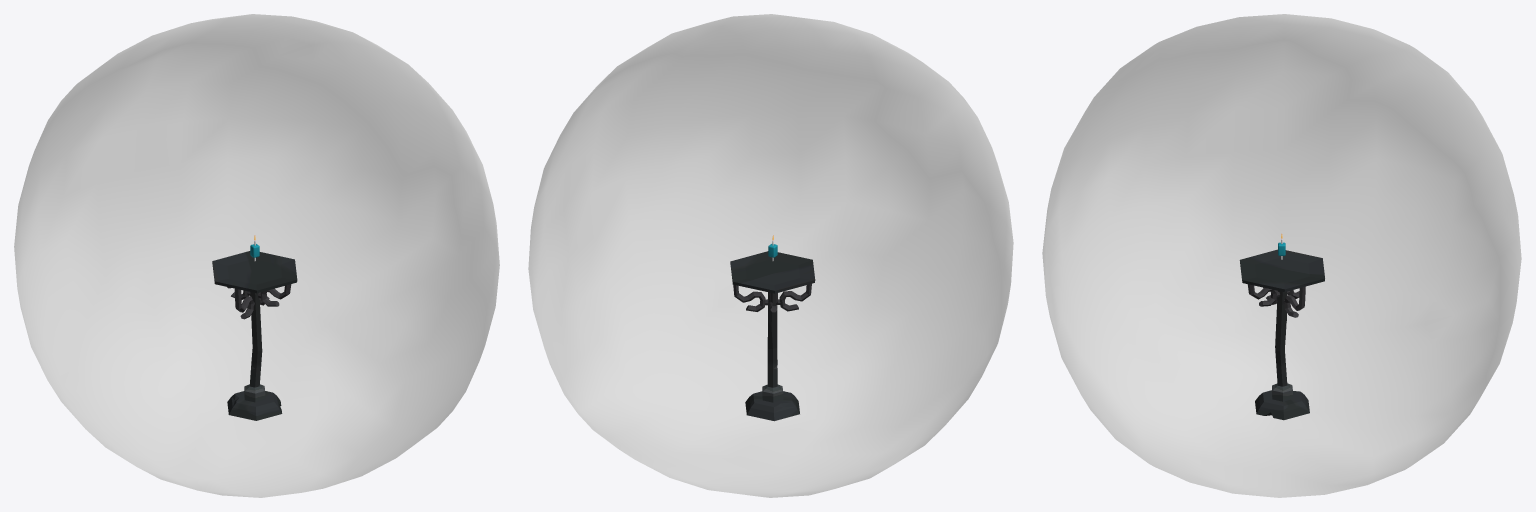
The model's file is japaneseShortComplete.glb.
3 views of the same model, side by side, from view 1: azimuth 30°, elevation 25°; view 2: azimuth 150°, elevation 25°; view 3: azimuth 270°, elevation 25° (orthographic).
Parts seen in each view (by area): view 1: Room, Candle_Stand; view 2: Room, Candle_Stand; view 3: Room, Candle_Stand.
Part boxes in pixels (left/top/right/bottom): Room: left=14, top=14, right=499, bottom=497; Candle_Stand: left=212, top=251, right=297, bottom=420; Room: left=528, top=14, right=1013, bottom=497; Candle_Stand: left=730, top=251, right=815, bottom=421; Room: left=1042, top=14, right=1521, bottom=497; Candle_Stand: left=1239, top=249, right=1324, bottom=420.
Bounding box in the file's own units: 24.43 × 24.43 × 24.44.
5 materials, 2 textured.
